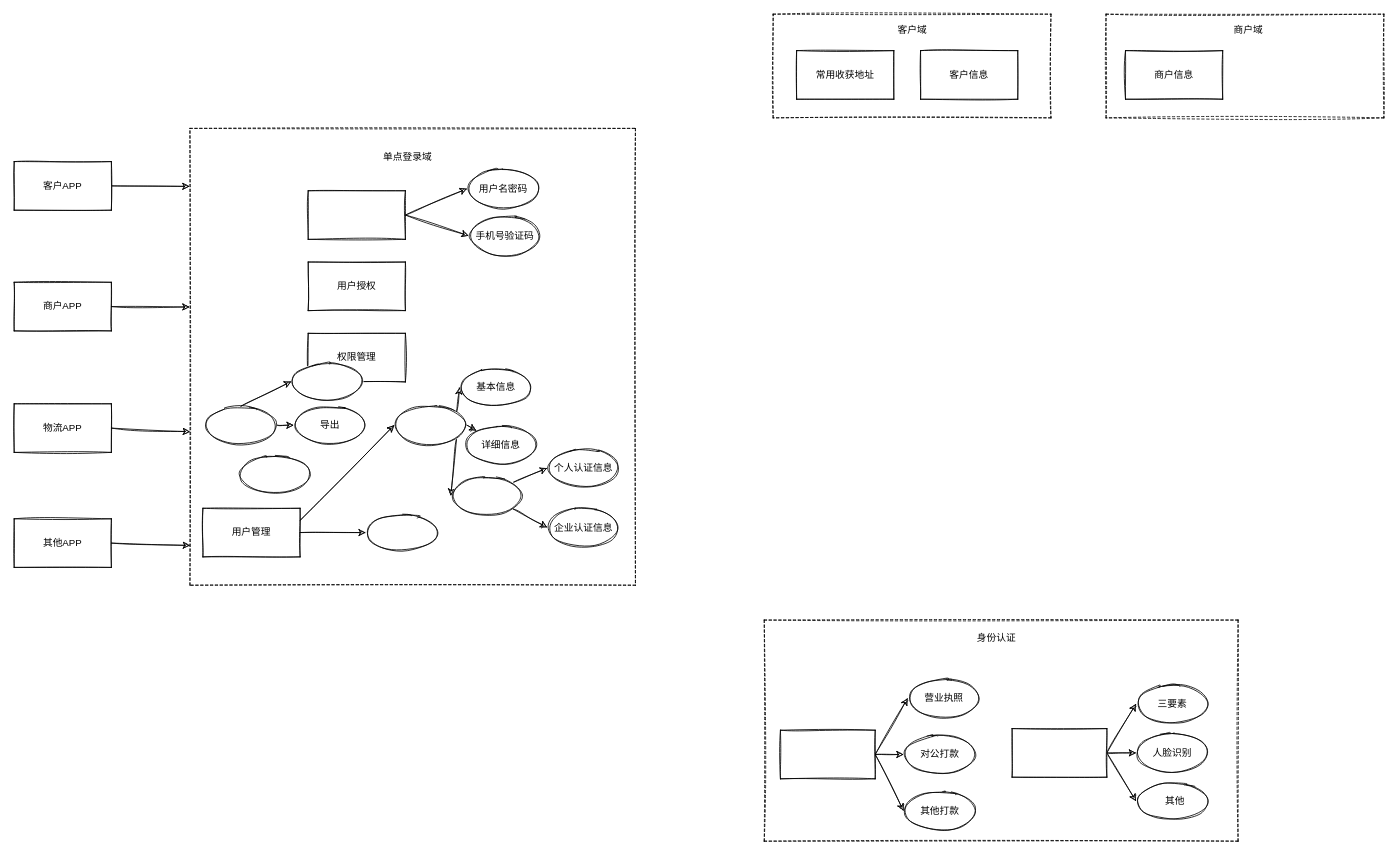
This 1398x855 diagram has some shape labels left out. Each missing label, with the centre of its shape:
"个人身份认证" belongs at (x=1059, y=752).
"主体信息" belongs at (x=487, y=495).
"企业身份认证" belongs at (x=827, y=754).
"创建用户" belongs at (x=274, y=474).
"导入" belongs at (x=327, y=381).
"用户信息" belongs at (x=430, y=424).
"用户列表" belongs at (x=240, y=424).
"用户鉴权" belongs at (x=356, y=214).
"组织机构" belongs at (x=402, y=532).
